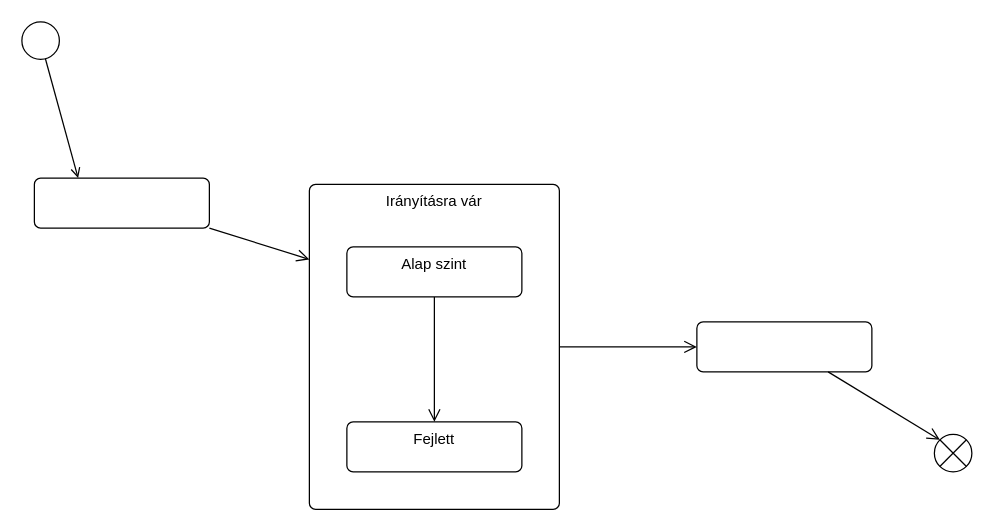
The diagram is 994 pixels wide and 531 high, and some of its shapes have lost their labels. The shapes that lost their labels are listed below. From the top down, each one's box as (x1, y1, x2, y2) in pixels, then its label:
(33, 177, 209, 228): Létrejött
(696, 321, 872, 372): Halott
